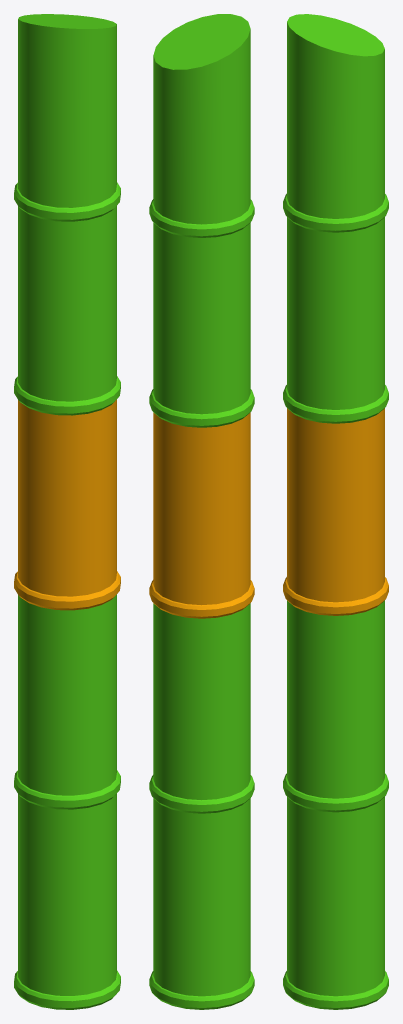
File: Bamboo_Middle_4.fbx
3 views of the same model, side by side, from view 1: azimuth 30°, elevation 25°; view 2: azimuth 150°, elevation 25°; view 3: azimuth 330°, elevation 25° (orthographic). The views are drawn at different scales.
Parts seen in each view (by area): view 1: Bamboo_Middle_4; view 2: Bamboo_Middle_4; view 3: Bamboo_Middle_4.
Part boxes in pixels (x1,y1,x2,y2): Bamboo_Middle_4: [14, 14, 120, 1009]; Bamboo_Middle_4: [149, 14, 254, 1009]; Bamboo_Middle_4: [283, 14, 388, 1009].
Bounding box in the file's own units: 0.2593 × 2.63 × 0.2593.
